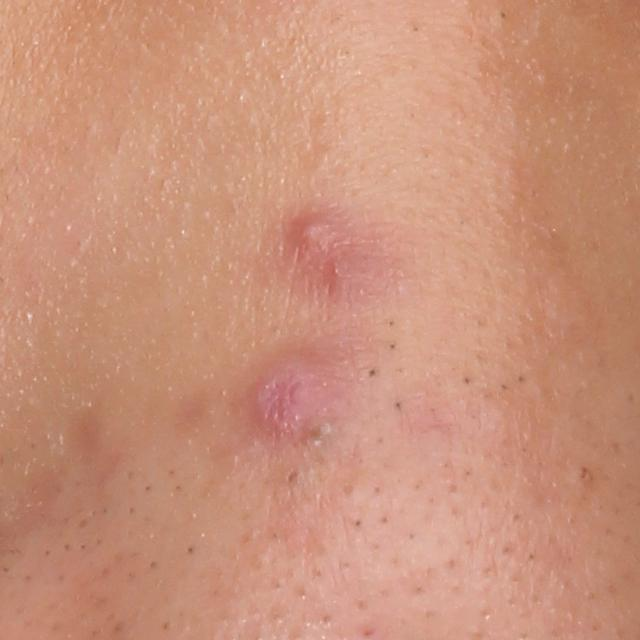comedo: (570, 461, 598, 489), (490, 5, 515, 27), (281, 466, 302, 487)
papule: (250, 353, 326, 440), (290, 210, 350, 262), (322, 243, 374, 288)
